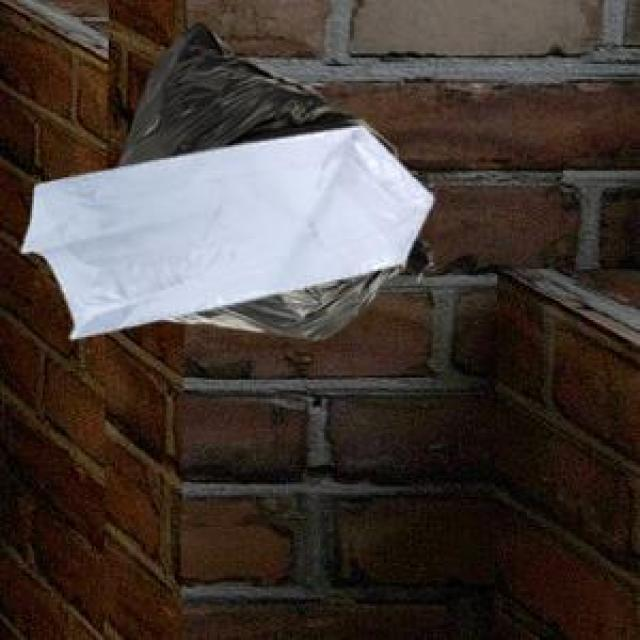miscellaneous trash: (115, 19, 431, 335)
